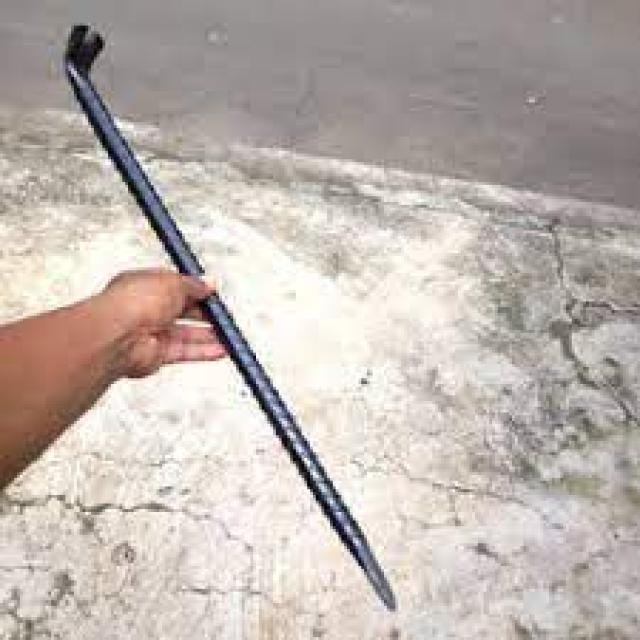Linggis: (51, 6, 431, 616)
